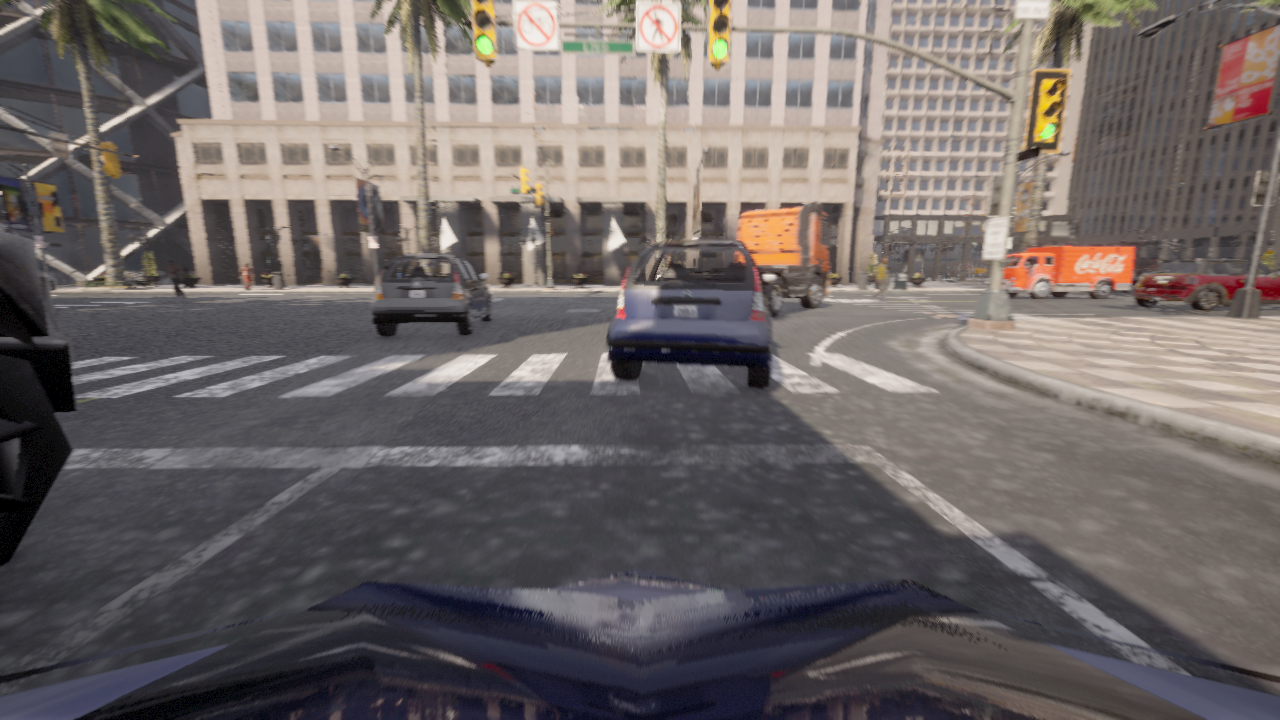cyclist: (0, 569, 1279, 719), (607, 239, 776, 387), (736, 201, 836, 317), (371, 253, 492, 336), (1132, 259, 1279, 310), (1001, 245, 1134, 299), (1077, 269, 1151, 292)
pedestrian: (164, 260, 185, 298), (871, 258, 888, 303), (239, 263, 254, 289)
